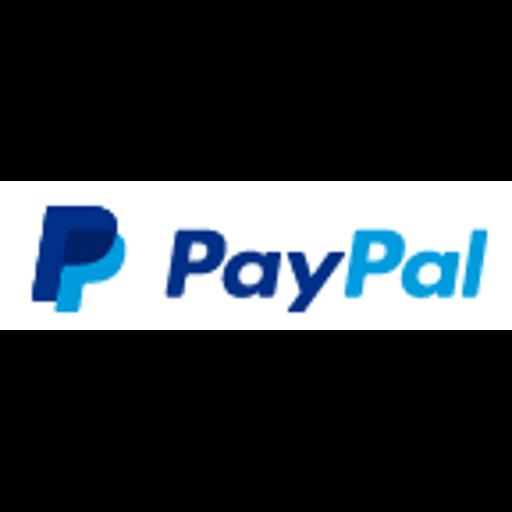PayPal: (0, 181, 512, 330)
